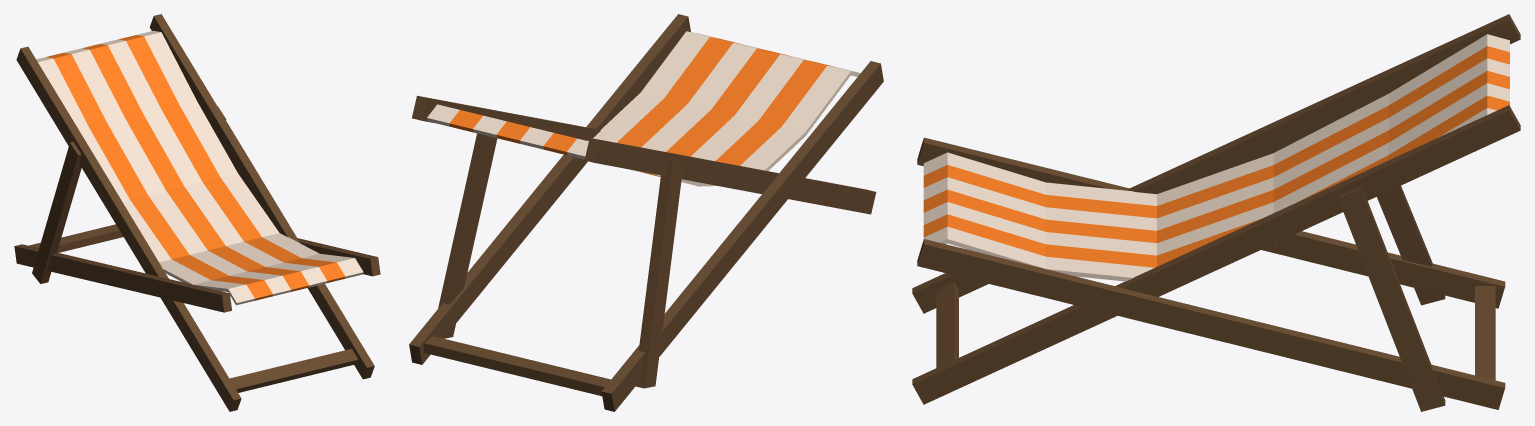
File: beach-lounger.glb
The picture shows the model from 3 angles, left to right: view 1: azimuth 30°, elevation 25°; view 2: azimuth 150°, elevation 25°; view 3: azimuth 270°, elevation 25°; orthographic projection. The views are drawn at different scales.
Visible parts, largest first — view 1: lounger; view 2: lounger; view 3: lounger.
Boxes of the visible parts, left/top/right/bottom form: lounger: left=14, top=14, right=380, bottom=411; lounger: left=409, top=14, right=883, bottom=411; lounger: left=912, top=14, right=1520, bottom=411.
Size of the model in its own units: 0.6318 by 0.7751 by 1.45.
